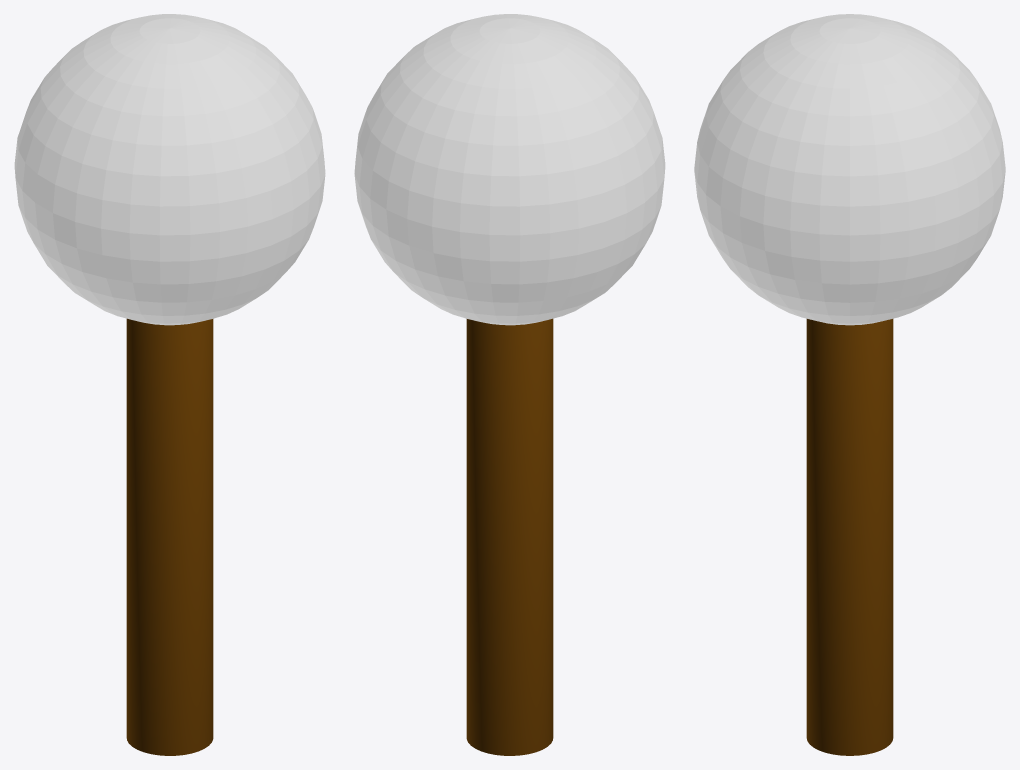
Rendered from Tree-Nodes.glb.
3 renders of one model, left to right at view 1: azimuth 30°, elevation 25°; view 2: azimuth 150°, elevation 25°; view 3: azimuth 270°, elevation 25°, orthographic.
Visible parts, largest first — view 1: Sphere, Cylinder; view 2: Sphere, Cylinder; view 3: Sphere, Cylinder.
Part boxes in pixels (bbox=[...]): Sphere: bbox=[14, 14, 325, 325]; Cylinder: bbox=[126, 318, 213, 755]; Sphere: bbox=[354, 14, 665, 325]; Cylinder: bbox=[466, 318, 553, 755]; Sphere: bbox=[694, 14, 1005, 325]; Cylinder: bbox=[806, 319, 893, 755].
Bounding box in the file's own units: 2 × 5.02 × 2.
